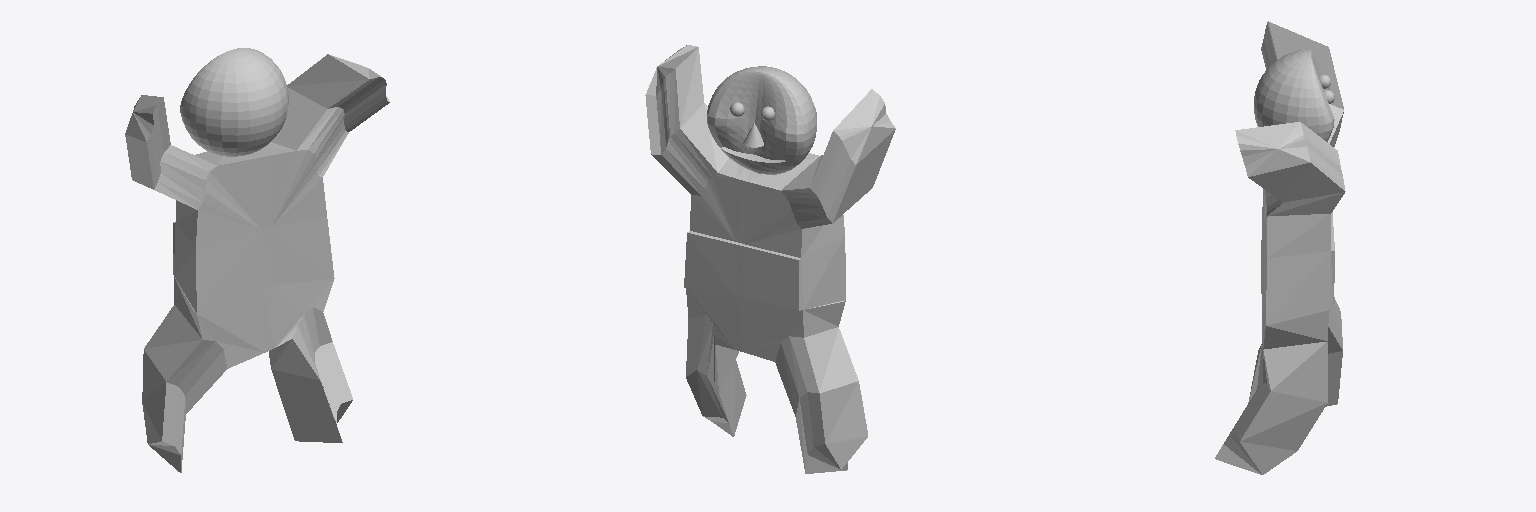
Rendered from manjump_000029.obj.
3 views of the same model, side by side, from view 1: azimuth 30°, elevation 25°; view 2: azimuth 150°, elevation 25°; view 3: azimuth 270°, elevation 25° (orthographic).
Visible parts, largest first — view 1: Cube; view 2: Cube; view 3: Cube.
Boxes of the visible parts, <box> form: Cube: <box>125,48,389,472</box>; Cube: <box>645,45,895,473</box>; Cube: <box>1215,21,1345,474</box>.
Bounding box in the file's own units: 80.11 × 127 × 38.43.